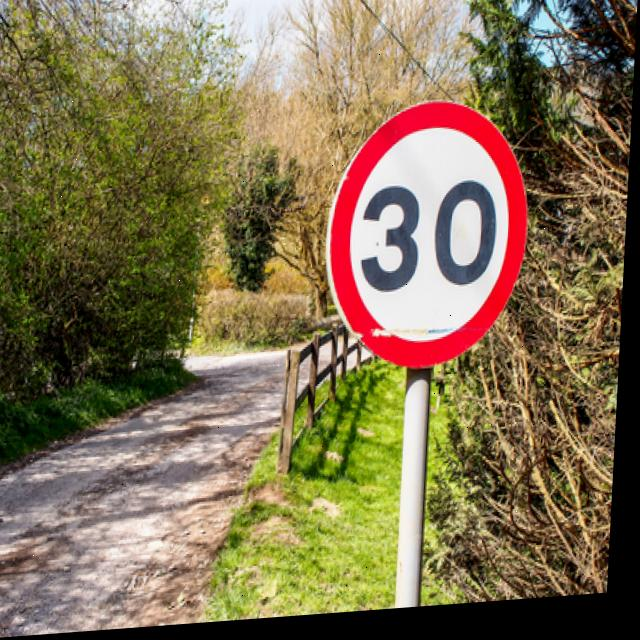Speed limit 30: (322, 100, 539, 385)
